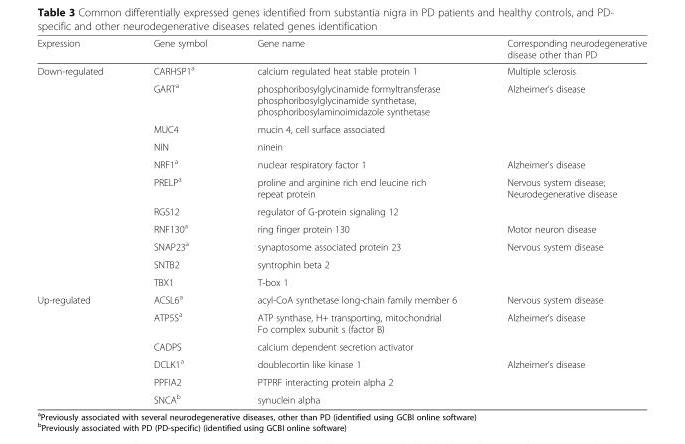table: (36, 37, 646, 405)
table column: (231, 37, 481, 405), (481, 37, 646, 405), (127, 37, 231, 405), (36, 37, 127, 405)
table column header: (36, 37, 646, 61)
table row: (36, 78, 646, 119), (36, 172, 646, 202), (36, 307, 646, 337), (36, 37, 646, 61), (36, 236, 646, 255), (36, 119, 646, 137), (36, 154, 646, 172), (36, 255, 646, 273), (36, 289, 646, 307), (36, 354, 646, 372), (36, 61, 646, 78), (36, 137, 646, 154), (36, 202, 646, 219), (36, 219, 646, 236), (36, 337, 646, 354), (36, 372, 646, 389), (36, 273, 646, 289), (36, 389, 646, 405)
table spanning cell: (36, 61, 127, 289), (36, 289, 127, 405)
